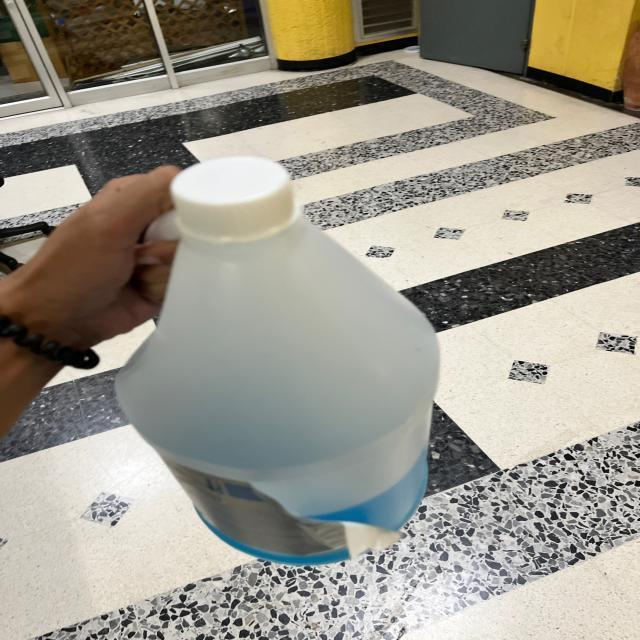HDPE Plastic: (121, 154, 446, 567)
